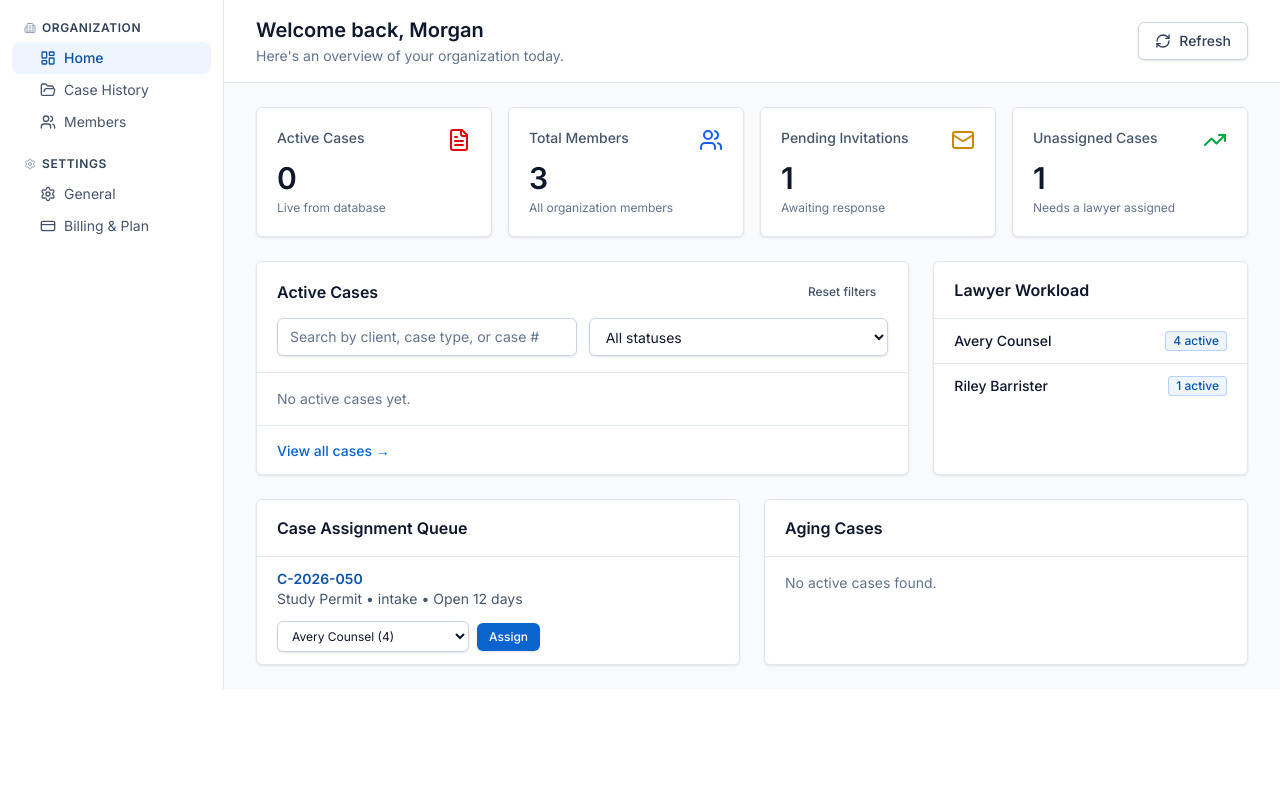
Scenario: AdminDashboard members › CT-ADMIN-07: adds a role after confirmation
The width and height of the screenshot is (1280, 800).
expect the heading "Welcome back, Morgan" is shown: met, box [256, 18, 484, 42]
Click the button "Members" at {"x": 112, "y": 122}, box [12, 106, 211, 138]
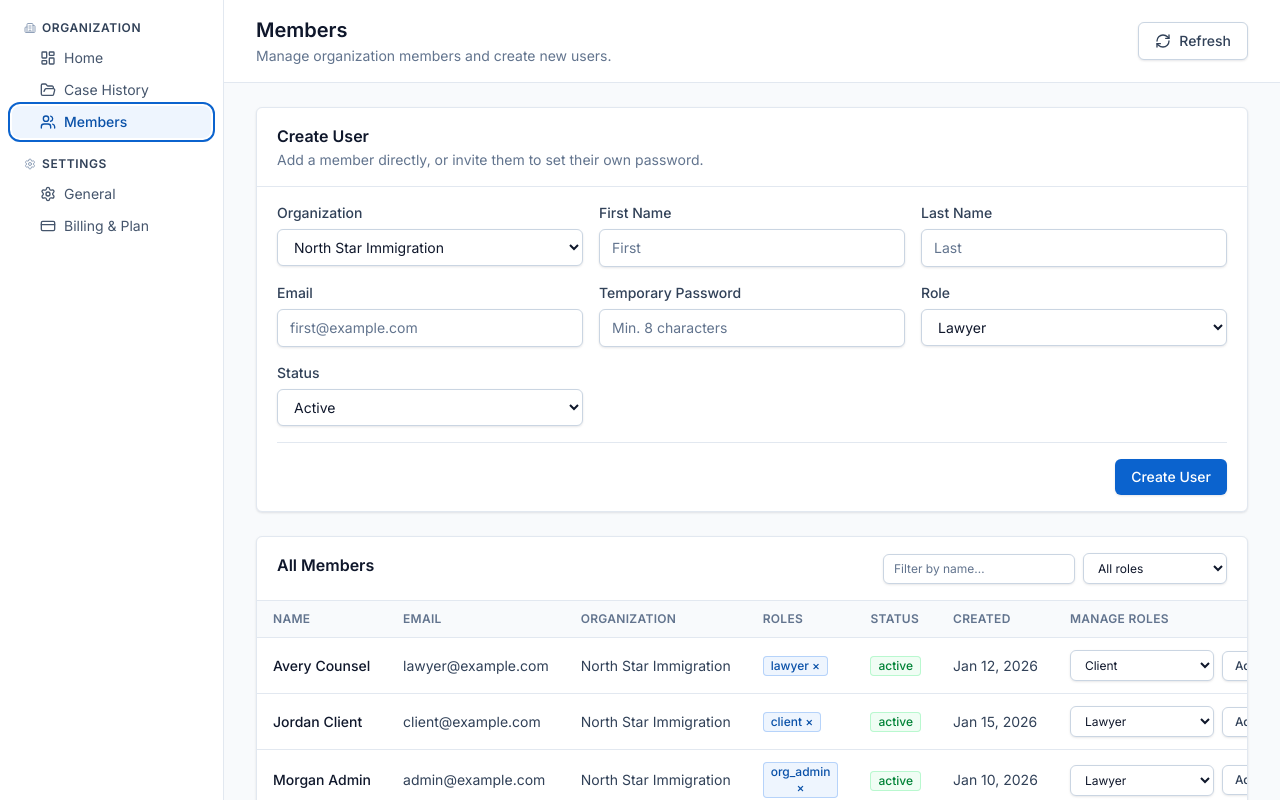
expect the heading "Members" is shown: met, box [256, 18, 348, 42]
Click the button "Add" in the row of "Avery Counsel" at {"x": 1247, "y": 666}, box [1222, 650, 1271, 680]
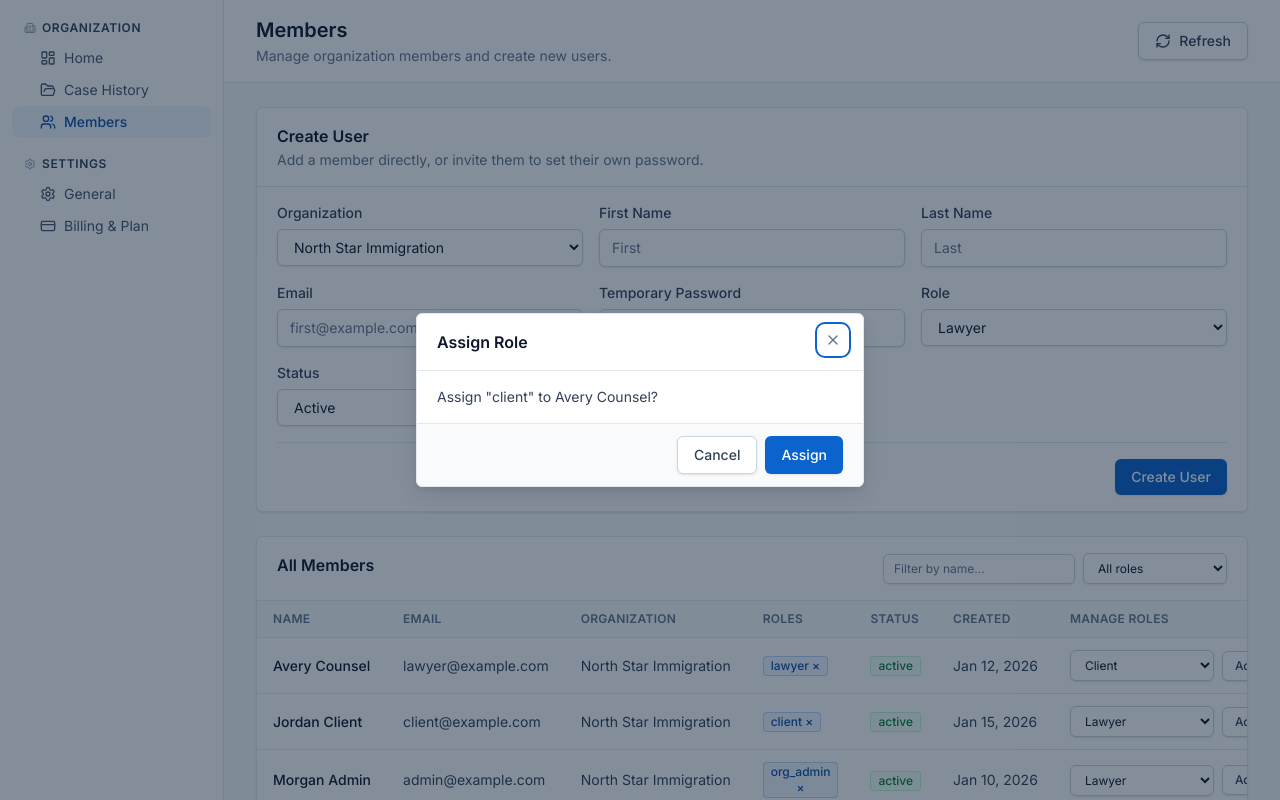
Click the button "Assign" at {"x": 804, "y": 455}, box [765, 436, 843, 474]
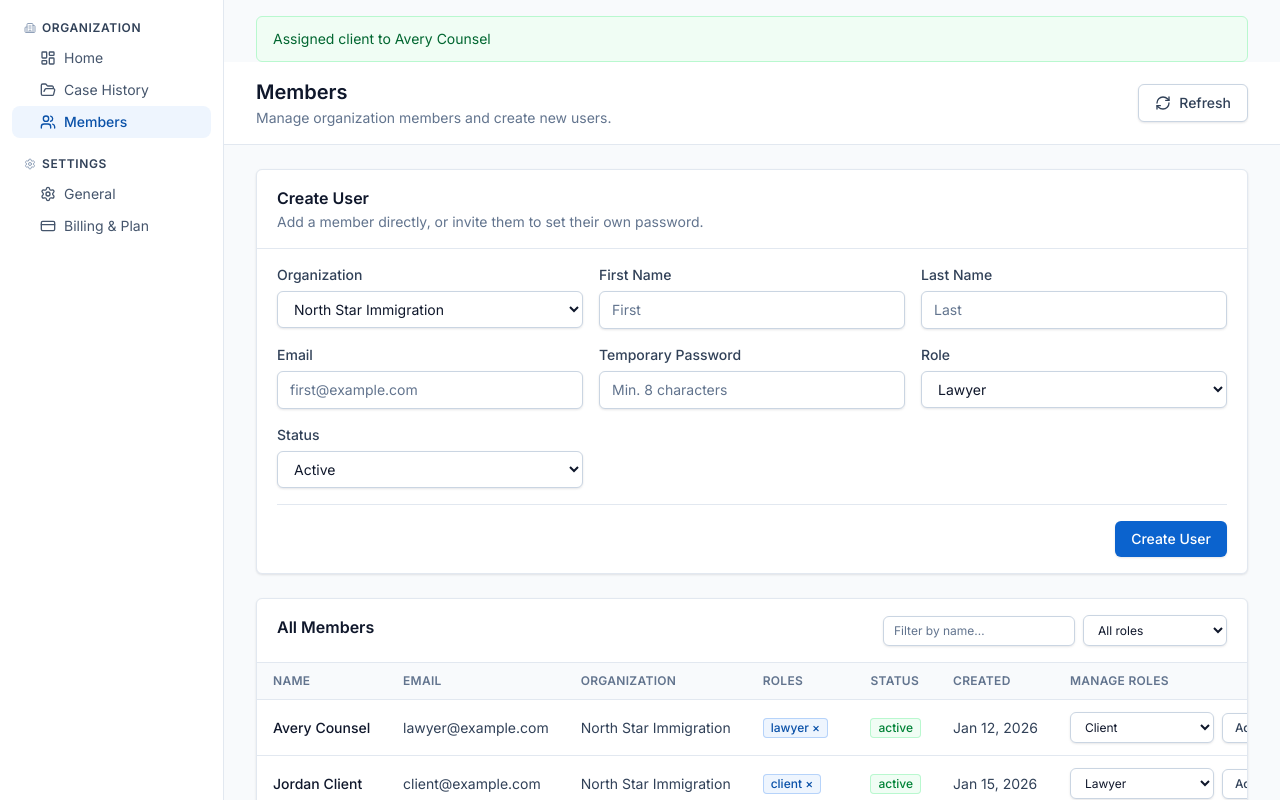
expect the text "Assigned client to Avery Counsel" is shown: met, box [256, 16, 1248, 62]
